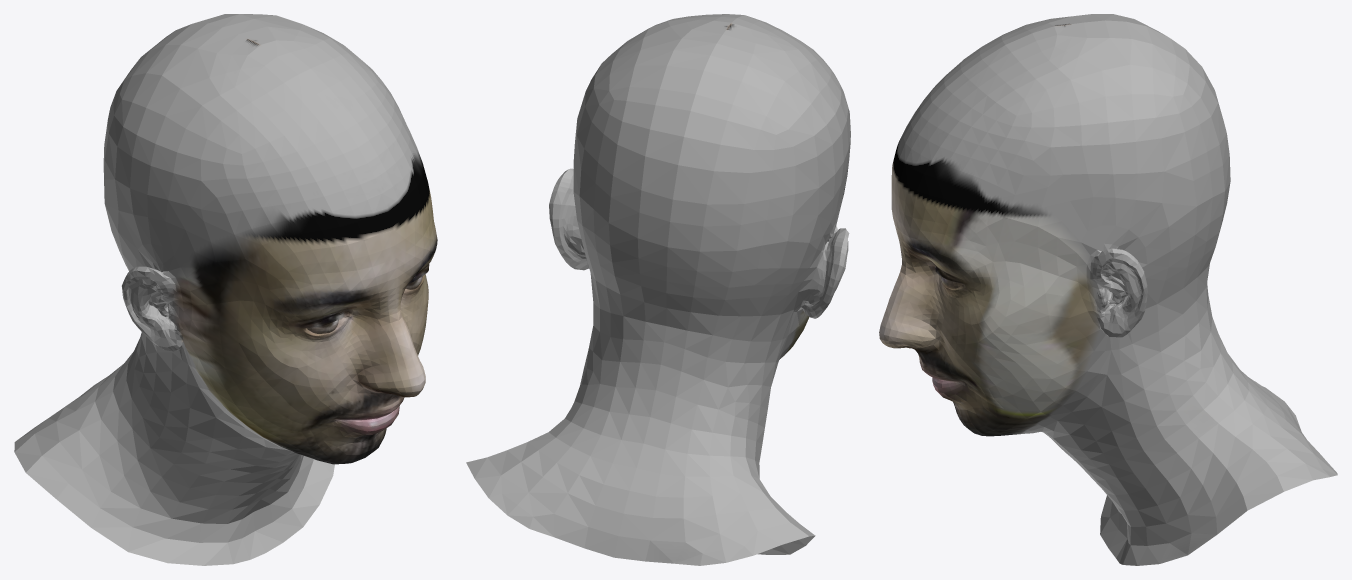
The model's file is ezgif-frame-031.obj.
3 views of the same model, side by side, from view 1: azimuth 30°, elevation 25°; view 2: azimuth 150°, elevation 25°; view 3: azimuth 270°, elevation 25° (orthographic). The views are drawn at different scales.
Size of the model in its own units: 0.2045 by 0.3272 by 0.2638.
1 material, 1 textured.
